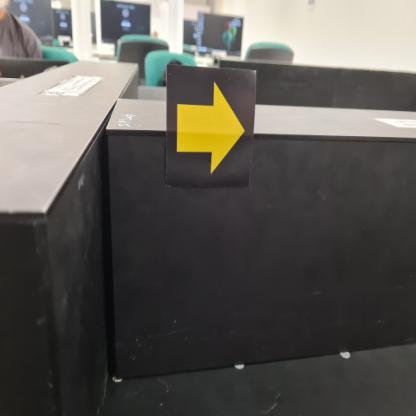right: (167, 63, 258, 192)
